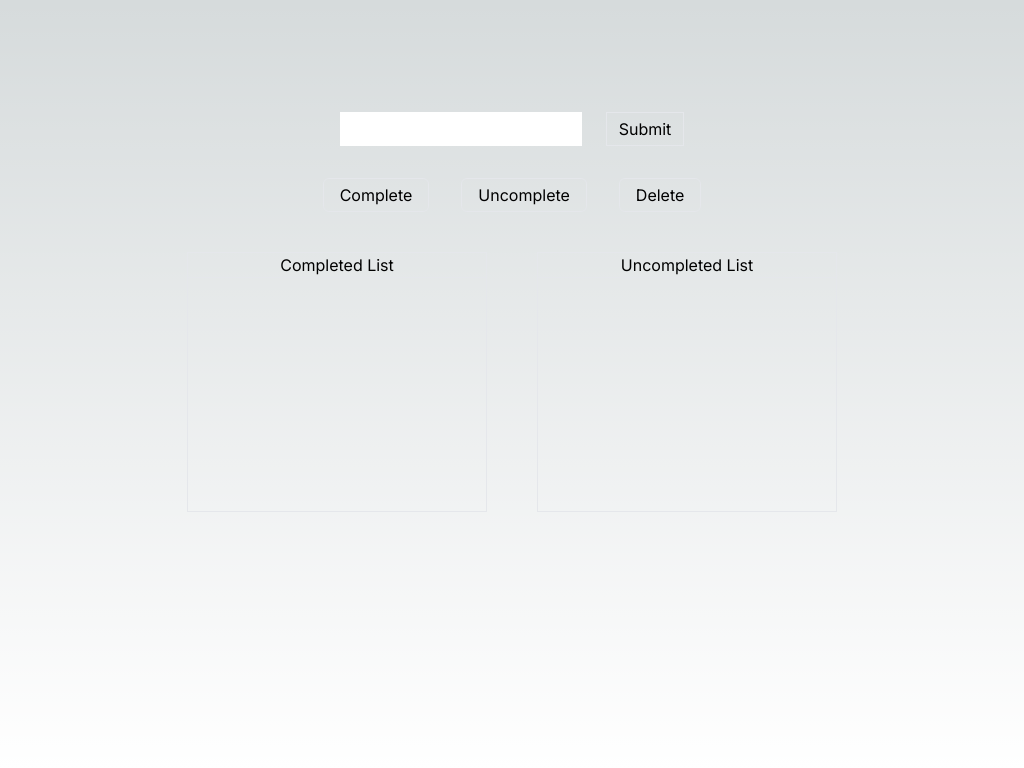
it: Home › should delete a to do
Step 1. Type "New to do" into the field with test id "to-do-input" → (461, 129), box [340,112,582,146]
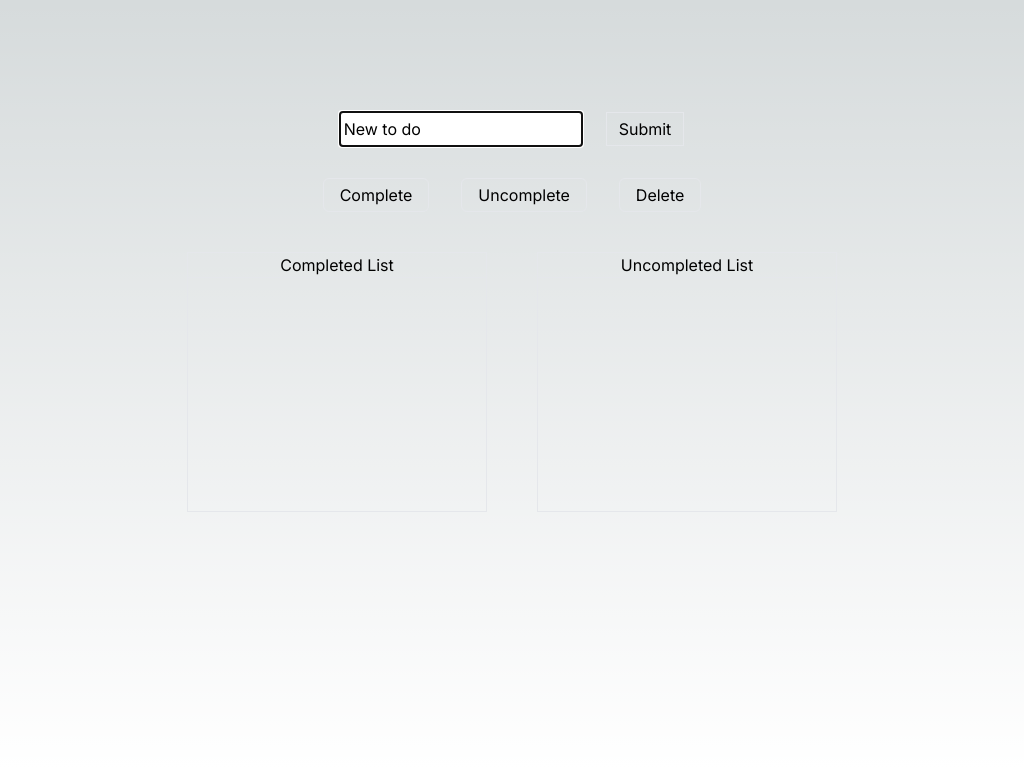
Step 2. Click the button with test id "submit-button" → click(645, 129), box [606,112,684,146]
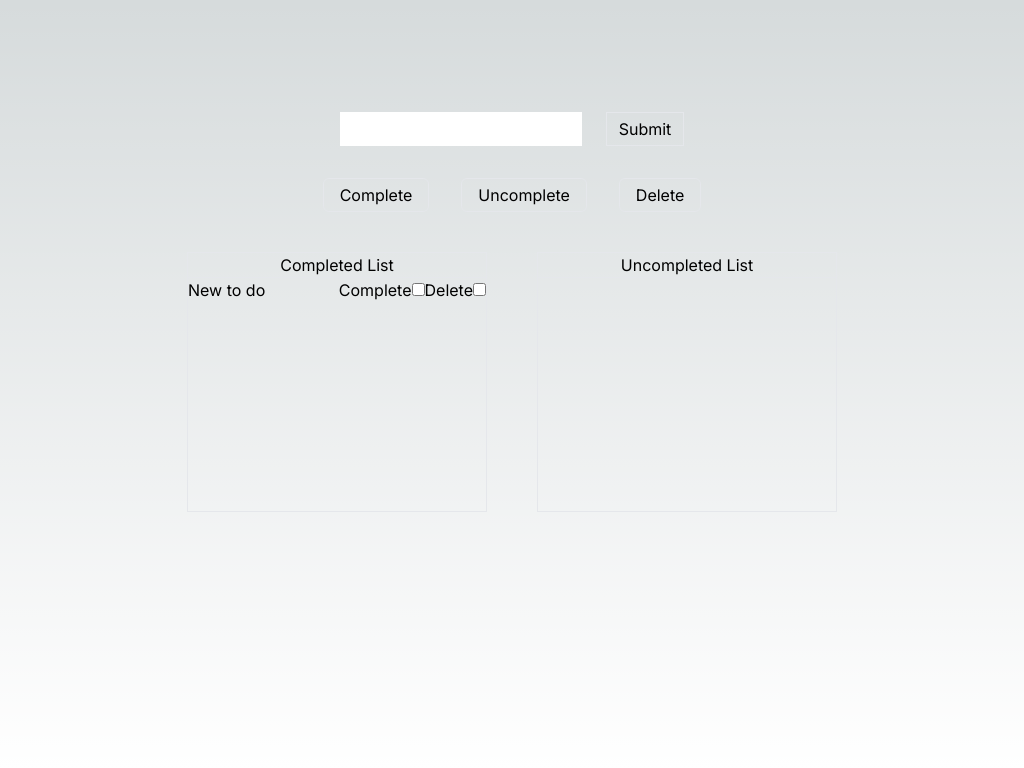
expect the field with test id "to-do-input" is empty: met, box [340,112,582,146]
expect the text "New to do" is shown: met, box [188,278,265,302]
expect the checkbox with test id "delete-checkbox" is not checked: met
Step 3. Click the checkbox with test id "delete-checkbox" → click(480, 290), box [473,283,486,296]
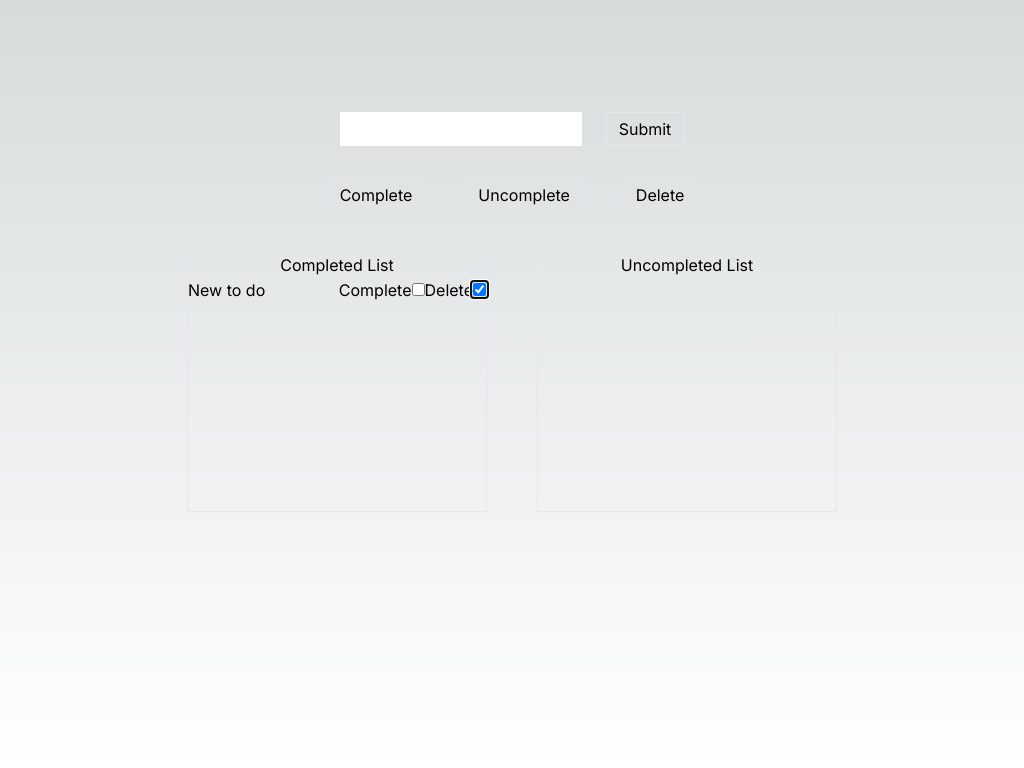
Step 4. Click the button with test id "delete-button" → click(660, 195), box [619,178,701,212]
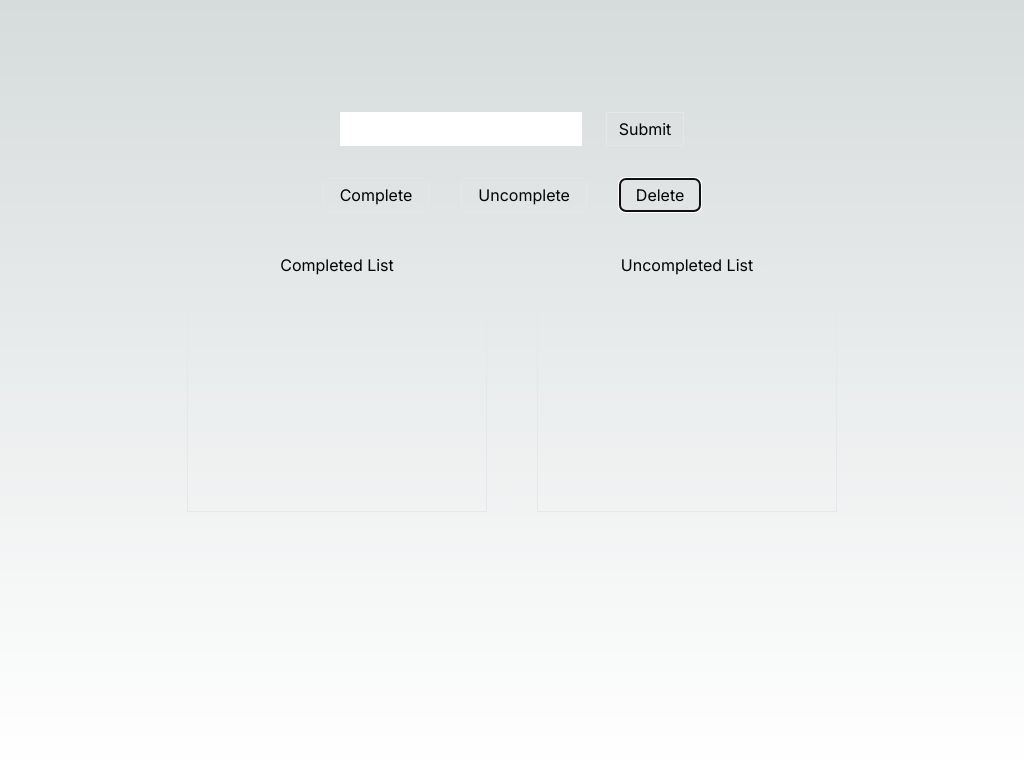
expect the text "New to do" is gone: met
